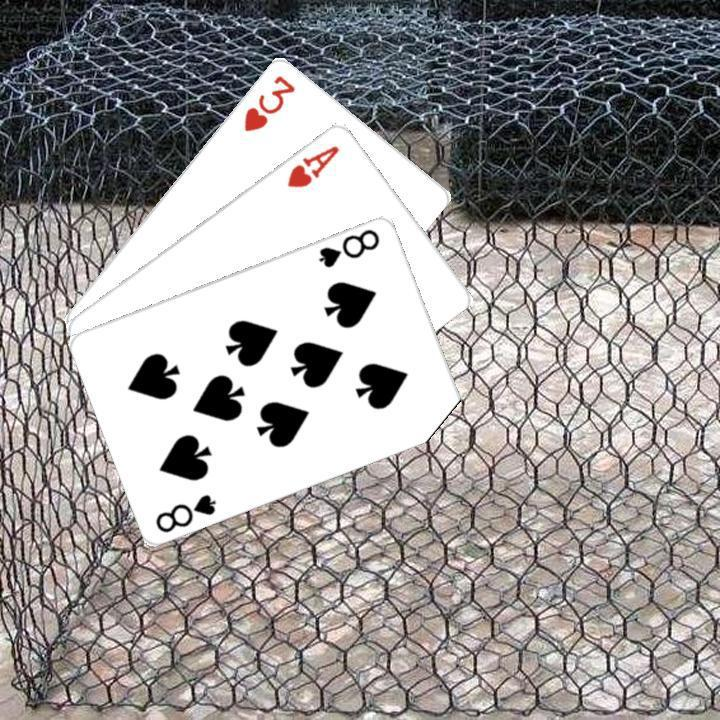3: (239, 70, 298, 133)
8: (151, 489, 219, 535), (314, 224, 382, 269)
A: (282, 140, 342, 190)
